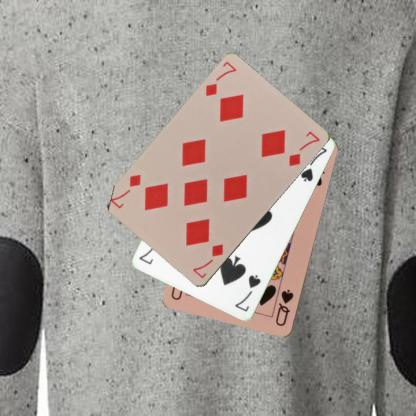7d: (203, 59, 238, 98), (190, 242, 225, 280)
7s: (233, 272, 262, 314)
Qs: (273, 287, 295, 328)
